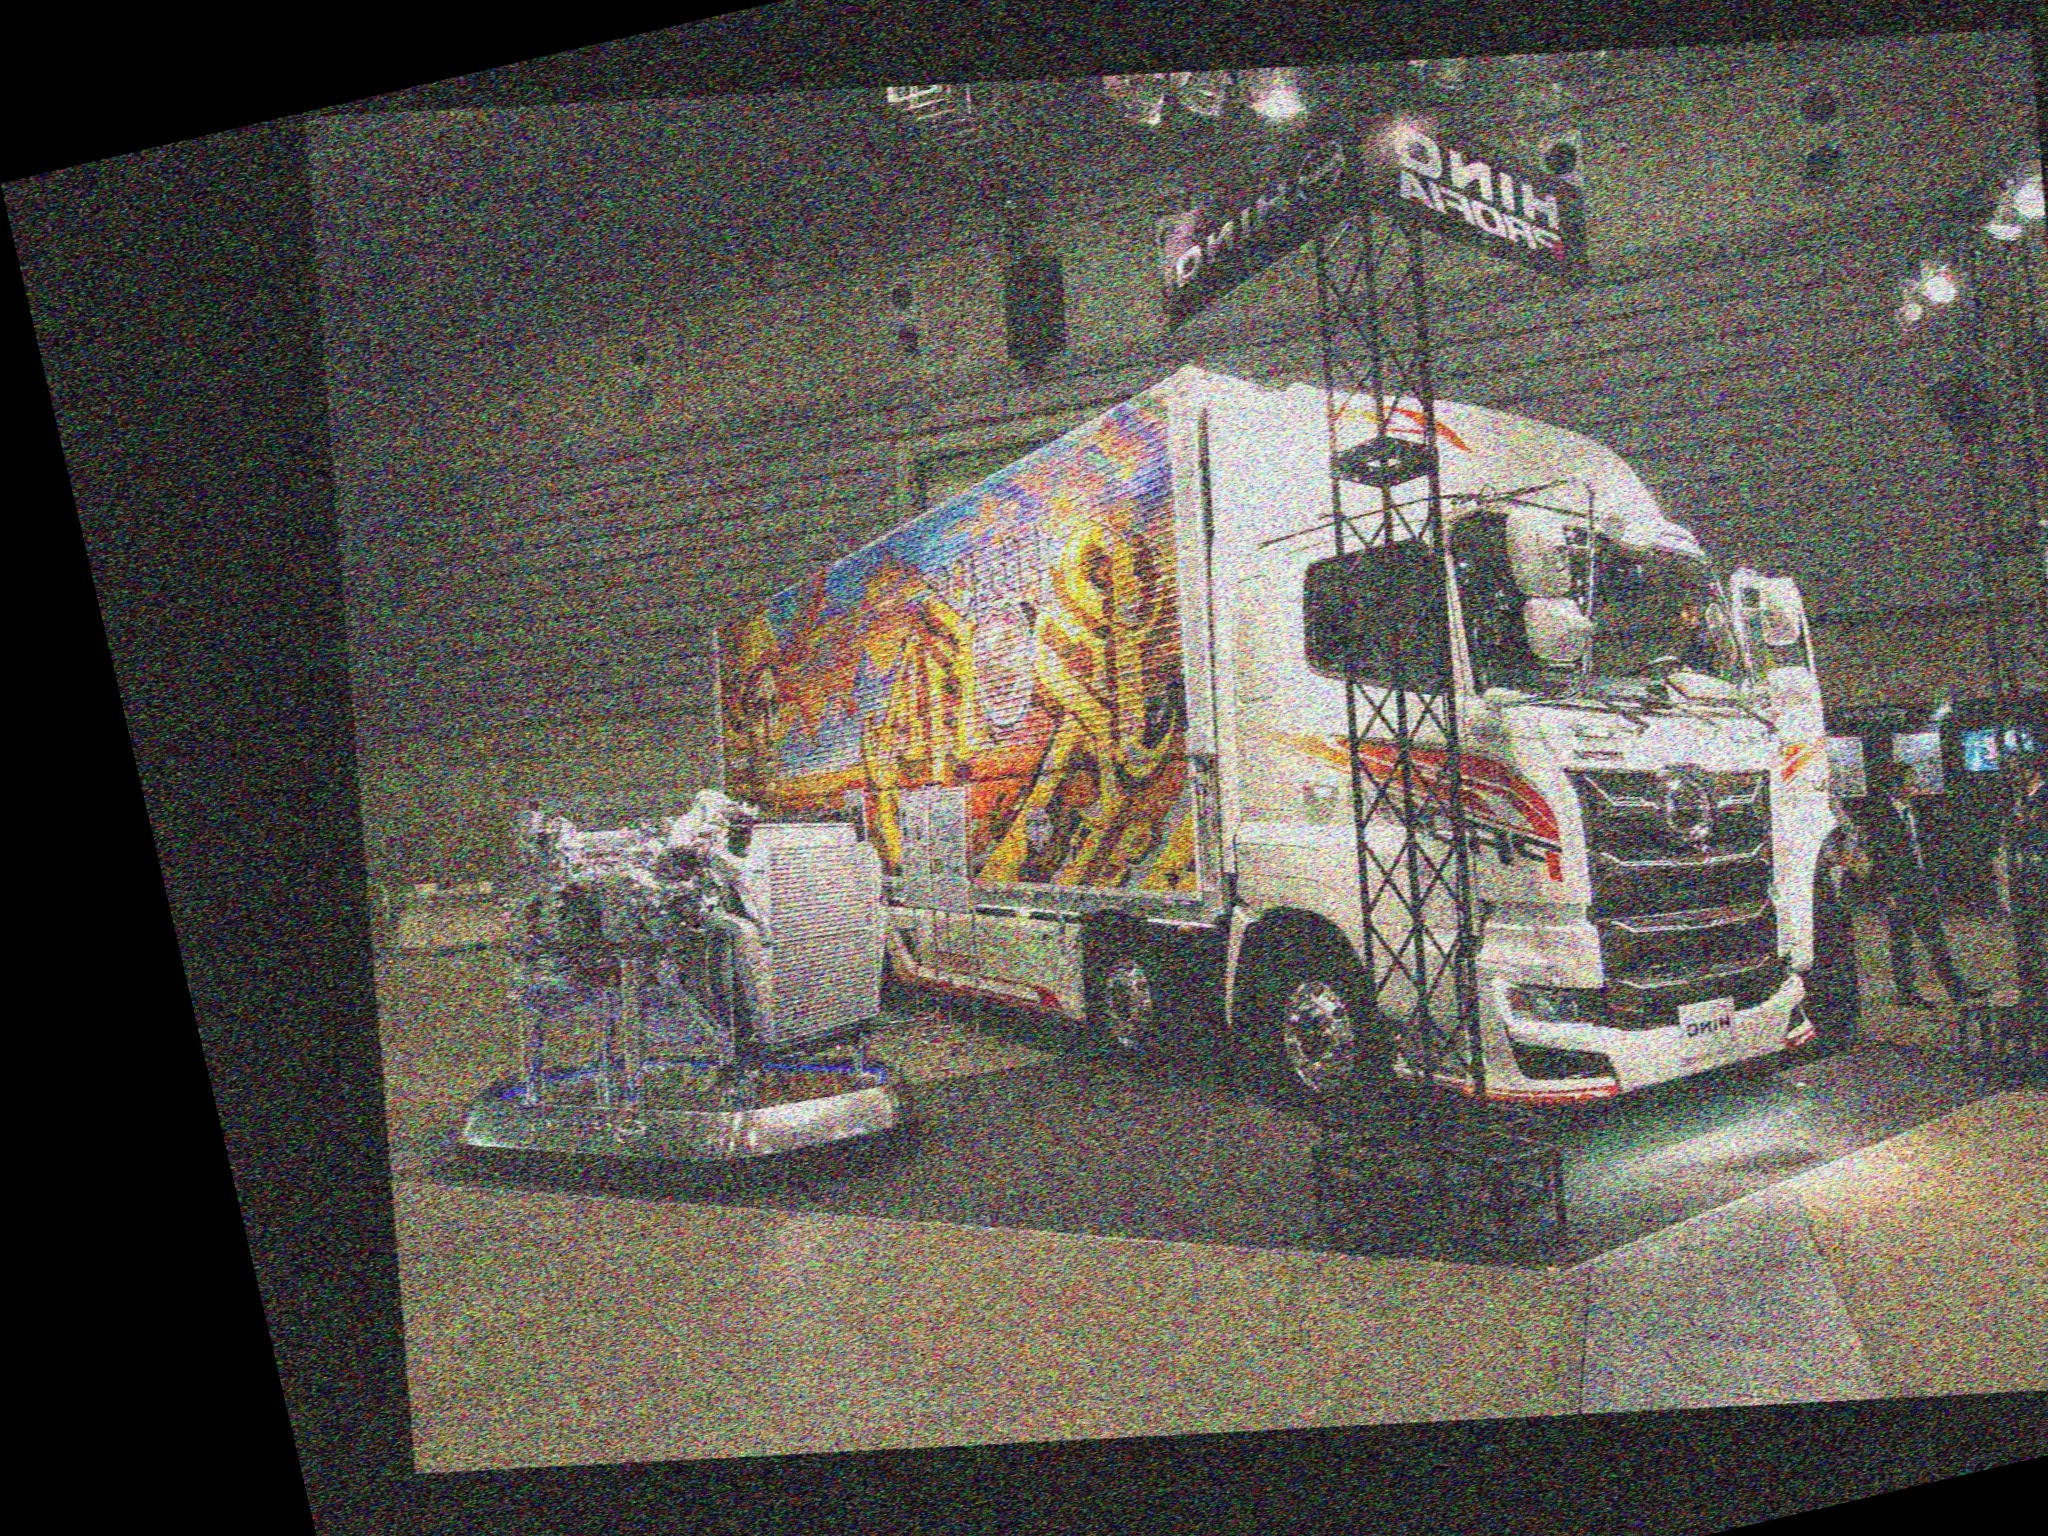truck: (577, 144, 1964, 1338)
